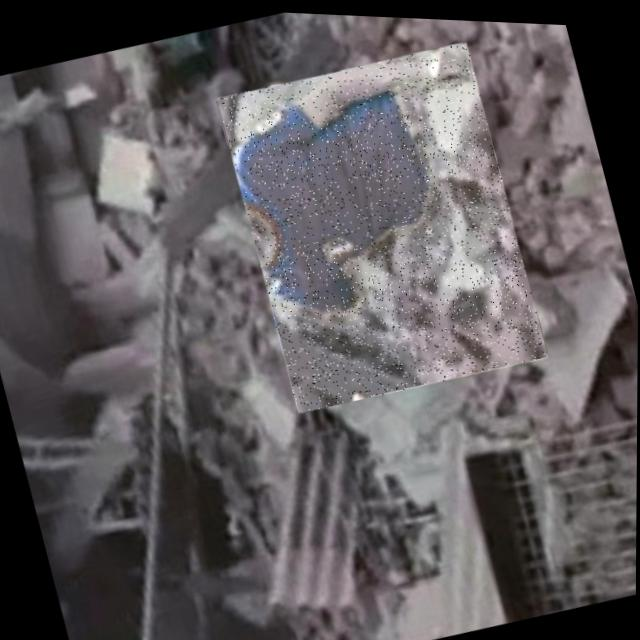Person in Rubble: (215, 28, 550, 418)
